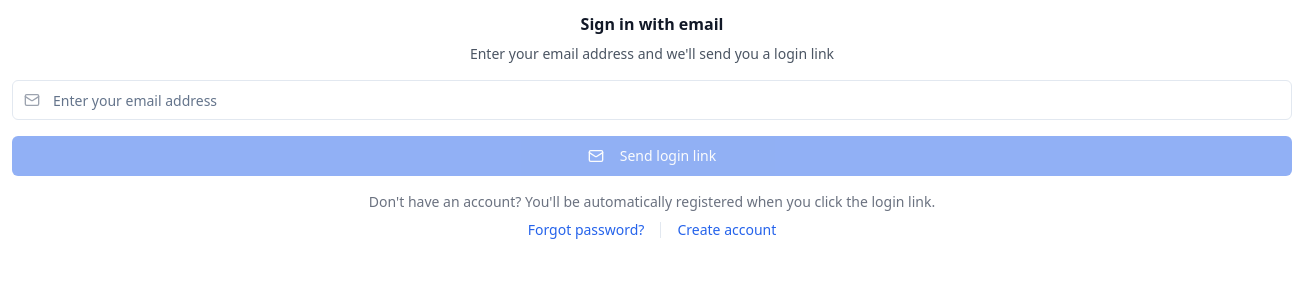
Scenario: EmailLoginForm › handles email submission error
Type "test@example.com" into the field with placeholder "Enter your email address".
click(652, 100); type("test@example.com")  # box 12,80 -> 1292,120
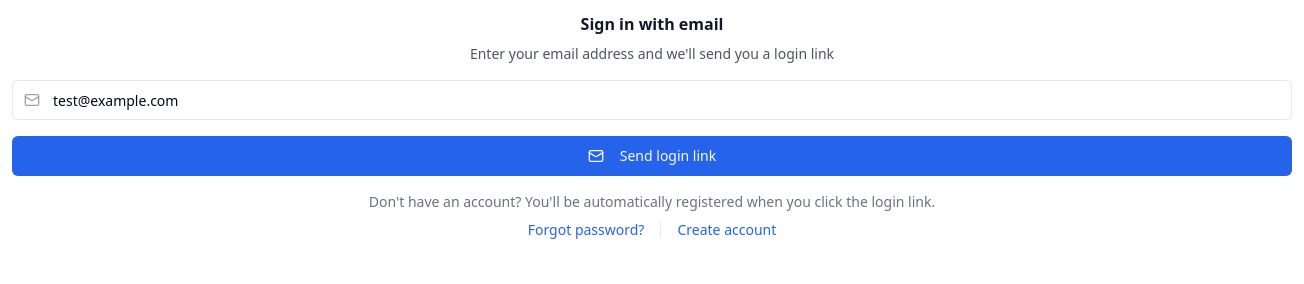
Click the button "Send login link".
click(652, 156)  # box 12,136 -> 1292,176
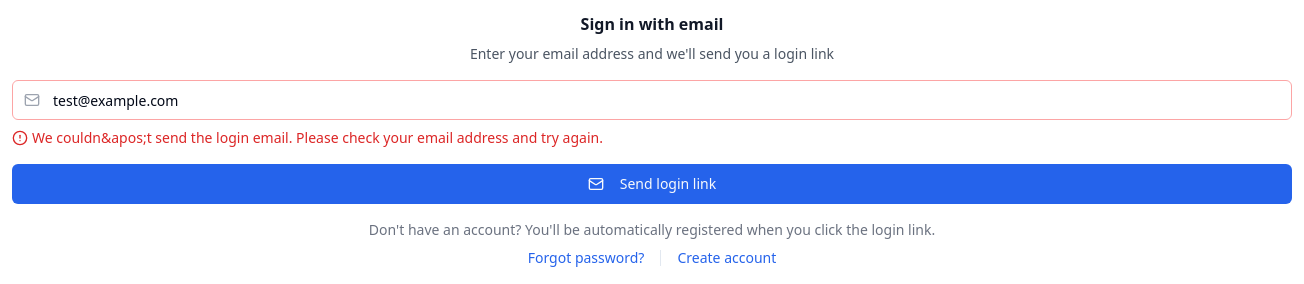
Check: the text "We couldn&apos;t send the login email. Please check your email address and try again." is shown, box 32,128 -> 603,147
